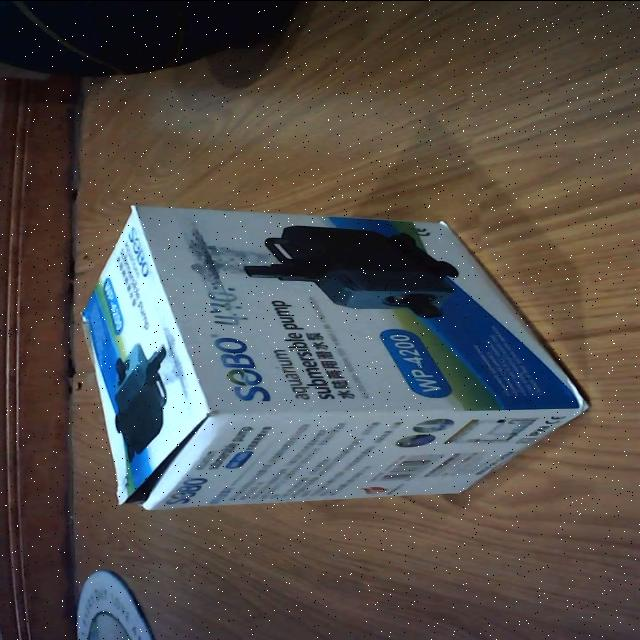SOBO_WP_4200: (68, 197, 592, 517)
